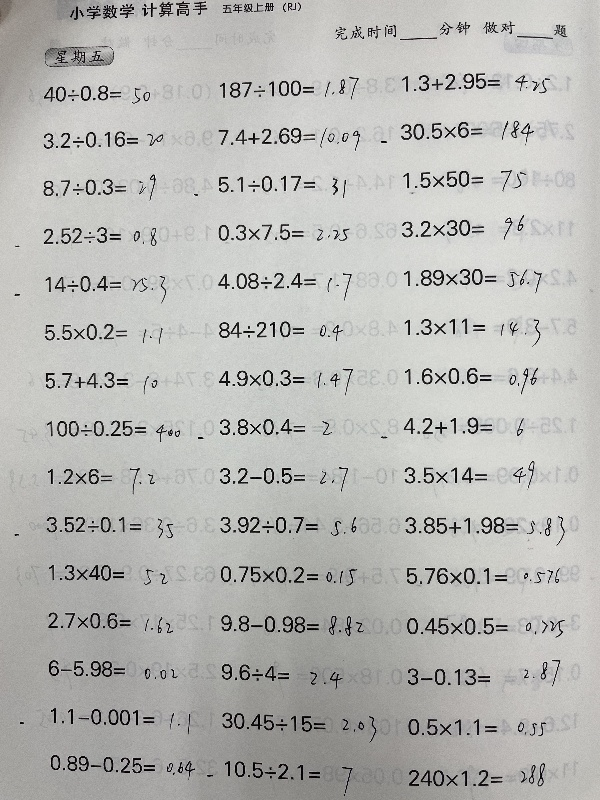equation: (46, 703, 196, 744), (217, 709, 379, 744), (402, 613, 568, 646), (402, 657, 563, 689), (400, 314, 547, 349), (221, 757, 356, 795), (396, 68, 556, 100), (215, 364, 356, 398), (213, 267, 354, 301), (405, 515, 570, 544), (218, 659, 349, 695), (43, 512, 178, 546), (401, 363, 544, 395), (400, 462, 538, 495), (41, 271, 170, 306), (399, 261, 544, 292), (43, 655, 181, 687), (402, 562, 565, 589), (216, 72, 362, 102), (216, 463, 352, 495), (214, 121, 363, 150), (406, 763, 549, 793), (399, 164, 528, 197), (213, 170, 350, 201), (215, 610, 366, 638), (403, 714, 548, 743), (41, 755, 196, 782), (399, 413, 528, 445), (399, 118, 535, 148), (39, 170, 159, 203), (42, 414, 183, 442), (397, 214, 533, 243), (45, 560, 172, 591), (215, 511, 359, 538), (40, 318, 167, 348), (215, 561, 359, 587), (214, 317, 344, 345), (213, 218, 351, 244), (216, 414, 335, 444), (40, 367, 159, 397), (43, 466, 162, 496), (43, 607, 176, 633), (39, 221, 159, 248), (38, 126, 166, 150), (38, 80, 153, 106)
